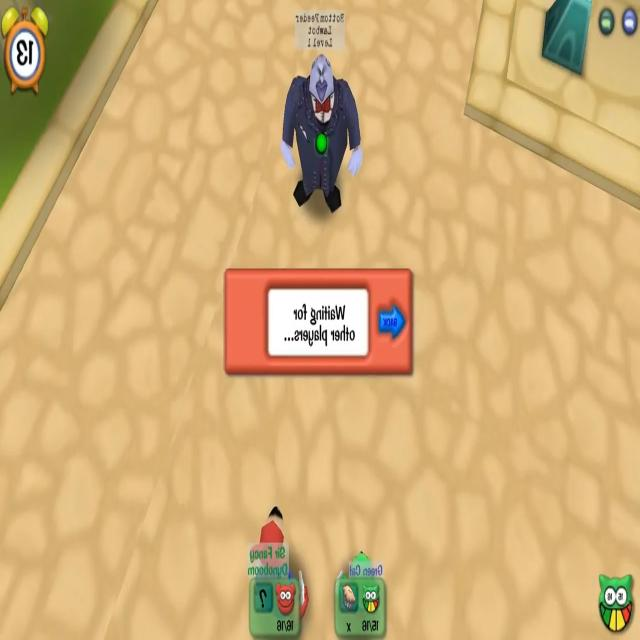bottomfeeder: (272, 9, 366, 220)
